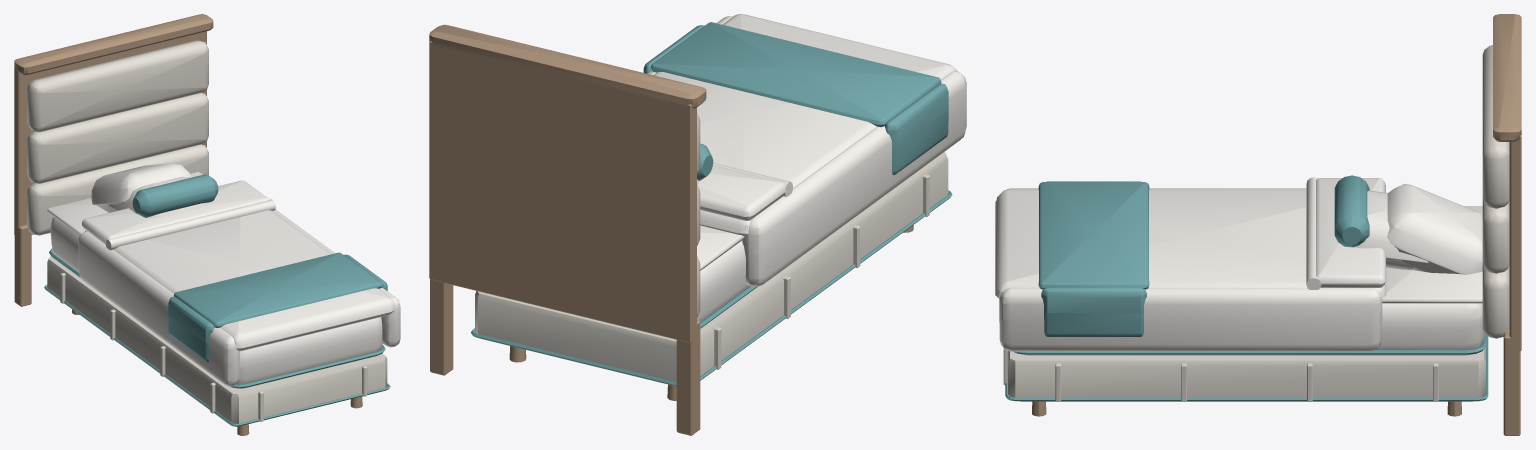
File: guest-room-bed-twin.glb
3 renders of one model, left to right at view 1: azimuth 30°, elevation 25°; view 2: azimuth 150°, elevation 25°; view 3: azimuth 270°, elevation 25°, orthographic. The views are drawn at different scales.
Visible parts, largest first — view 1: bed-twin; view 2: bed-twin; view 3: bed-twin.
Part boxes in pixels (<box>): bed-twin: <box>14,14,400,435</box>; bed-twin: <box>429,14,966,435</box>; bed-twin: <box>995,14,1521,435</box>.
Bounding box in the file's own units: 1.17 × 1.42 × 2.2.
